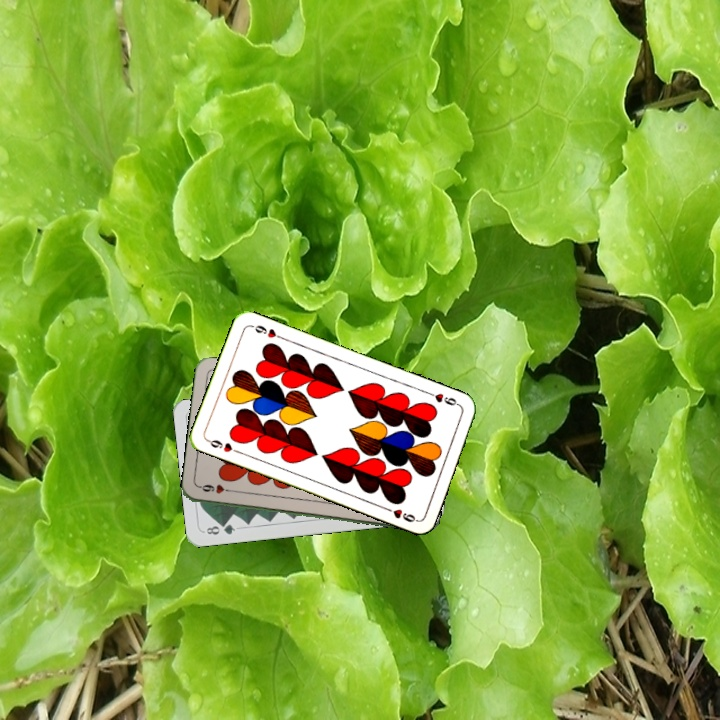G8: (202, 520, 238, 537)
H9: (424, 388, 463, 409), (203, 436, 243, 456), (196, 481, 237, 496)
